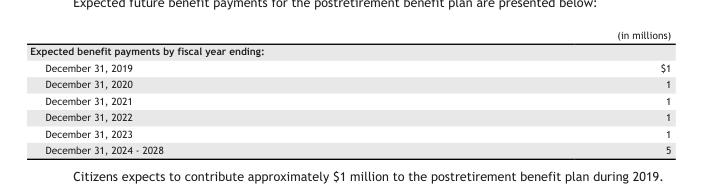table: (29, 28, 670, 155)
table column: (29, 28, 389, 155), (389, 28, 670, 155)
table column header: (29, 28, 670, 42)
table projected row header: (29, 42, 670, 59)
table row: (29, 42, 670, 59), (29, 91, 670, 108), (29, 124, 670, 141), (29, 59, 670, 75), (29, 75, 670, 91), (29, 108, 670, 124), (29, 28, 670, 42), (29, 141, 670, 155)
